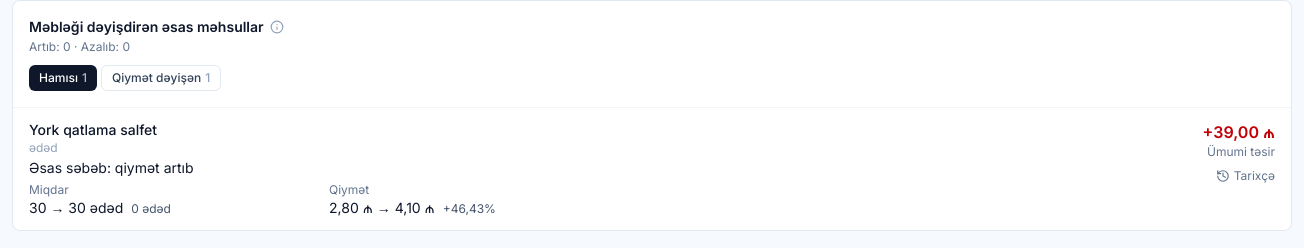
Test case: what "Hamısı" counts › says it behind the ⓘ beside the heading, word for word, hidden until asked for
Expected: the text "Artıb: 0 · Azalıb: 0" is shown, [29,39,130,54]
Click the button named "«Hamısı» nəyi sayır?" at (277, 27), box [268,18,286,36]
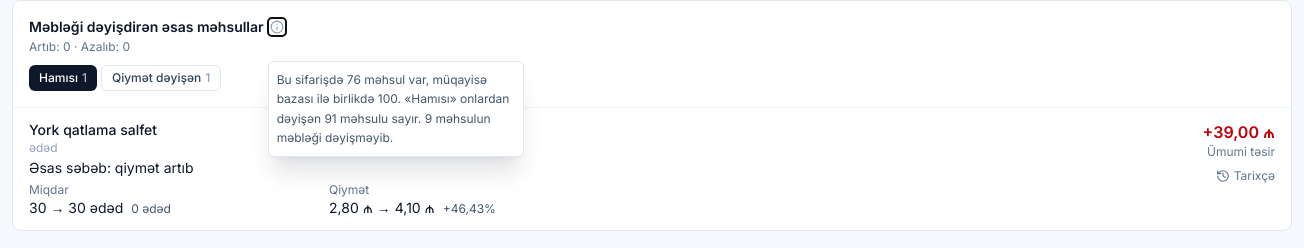
Expected: the button named "«Hamısı» nəyi sayır?" is expanded, [268,18,286,36]
